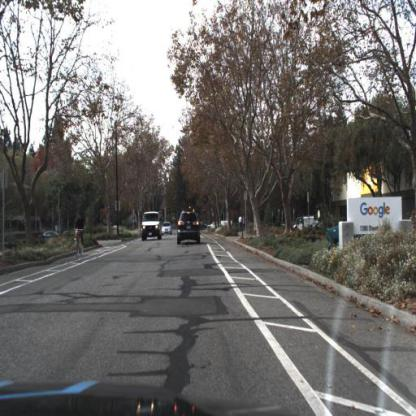biker: (74, 209, 86, 259), (77, 218, 85, 259)
car: (177, 211, 204, 247), (140, 211, 163, 242), (142, 211, 162, 240), (162, 221, 174, 237), (162, 222, 173, 236)
pedestrian: (238, 217, 243, 235)
truck: (302, 217, 314, 229)
